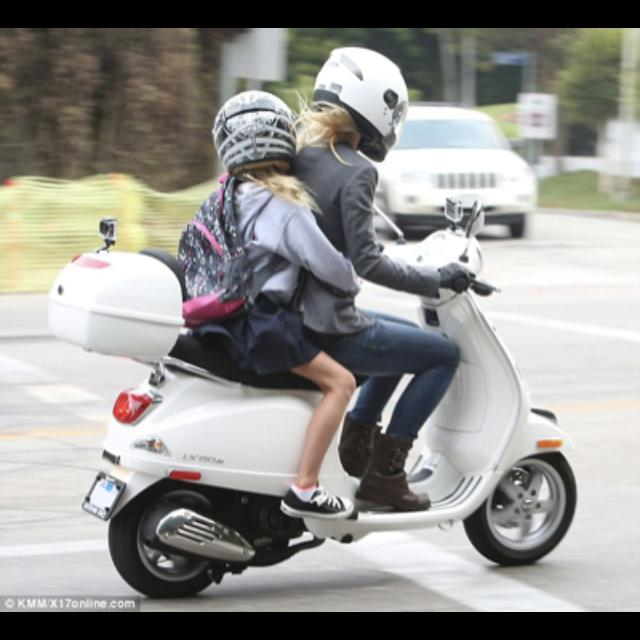With Helmet: (317, 38, 411, 160), (212, 90, 296, 168)
